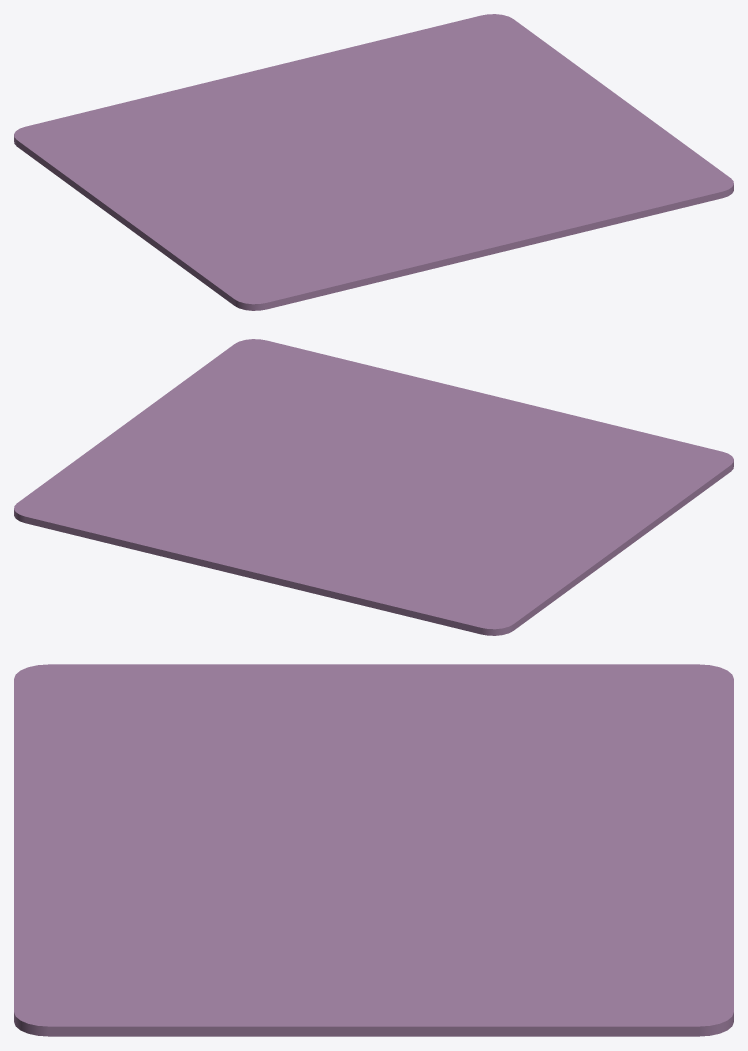
File: Plaza_Ground.fbx
3 renders of one model, top to bottom at view 1: azimuth 30°, elevation 25°; view 2: azimuth 150°, elevation 25°; view 3: azimuth 270°, elevation 25°, orthographic. The views are drawn at different scales.
Parts seen in each view (by area): view 1: Plaza_Ground; view 2: Plaza_Ground; view 3: Plaza_Ground.
Part boxes in pixels (x1,y1,x2,y2): Plaza_Ground: (14,14,733,310); Plaza_Ground: (14,339,733,635); Plaza_Ground: (14,664,733,1036).
Size of the model in its own units: 895 by 11.5 by 752.
